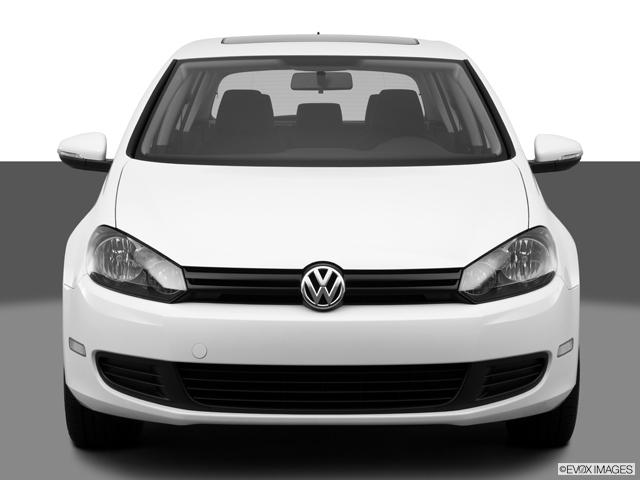car: (56, 31, 587, 452)
